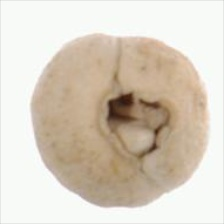L3: (97, 86, 176, 166)
L4: (31, 32, 209, 209)
